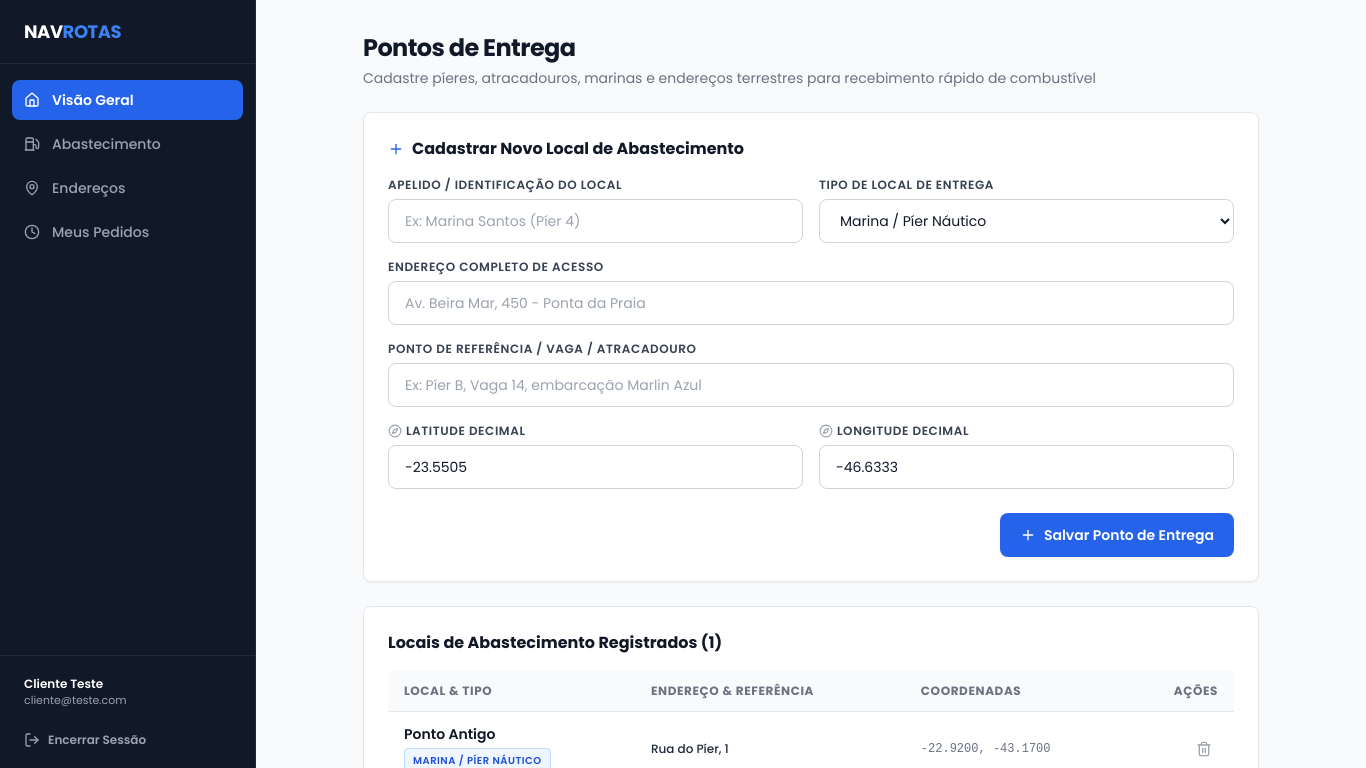
it: EnderecosPage › permite remover ponto de entrega via DELETE na API
Expected: the text "Ponto Antigo" is shown, [404,724,495,744]
Click the button named "Remover endereço Ponto Antigo". click: (1204, 749)
box: [1190,735,1218,763]
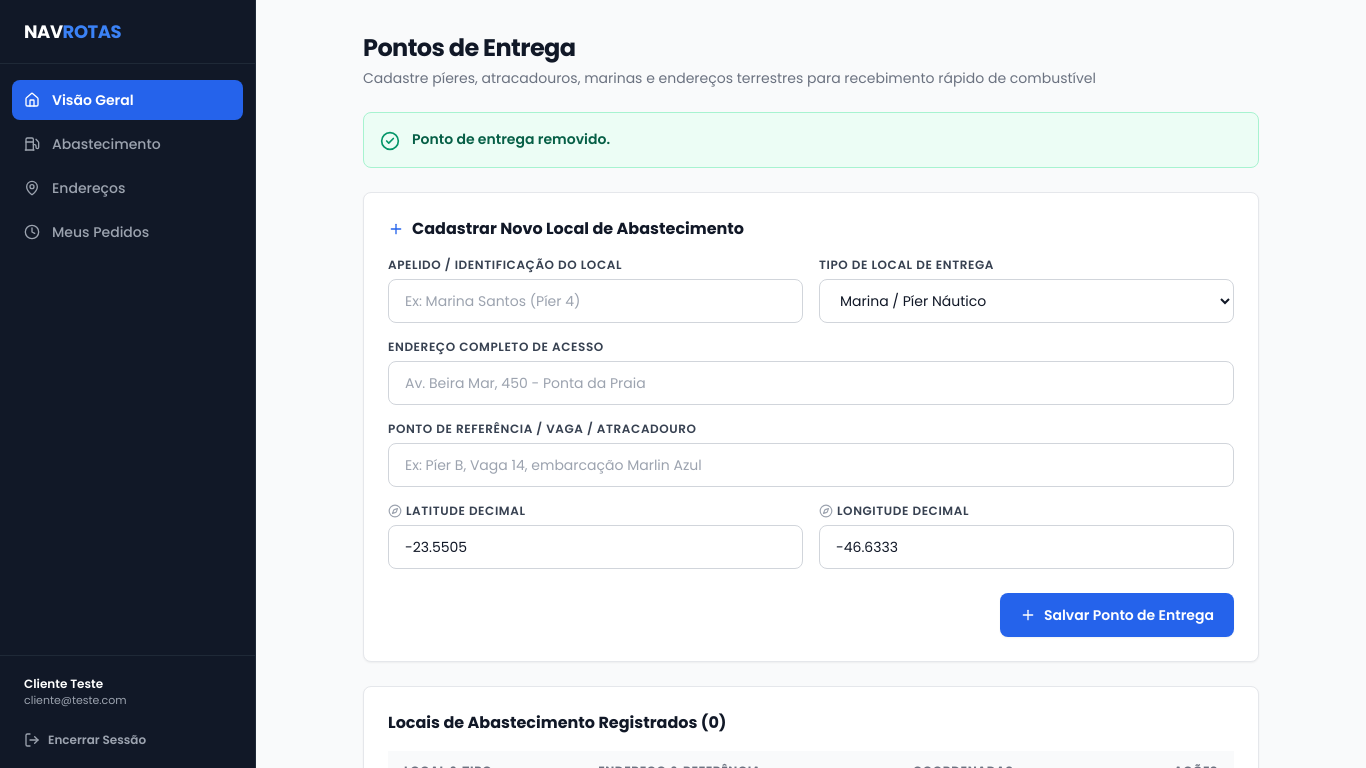
Result: the text "Ponto Antigo" is gone
